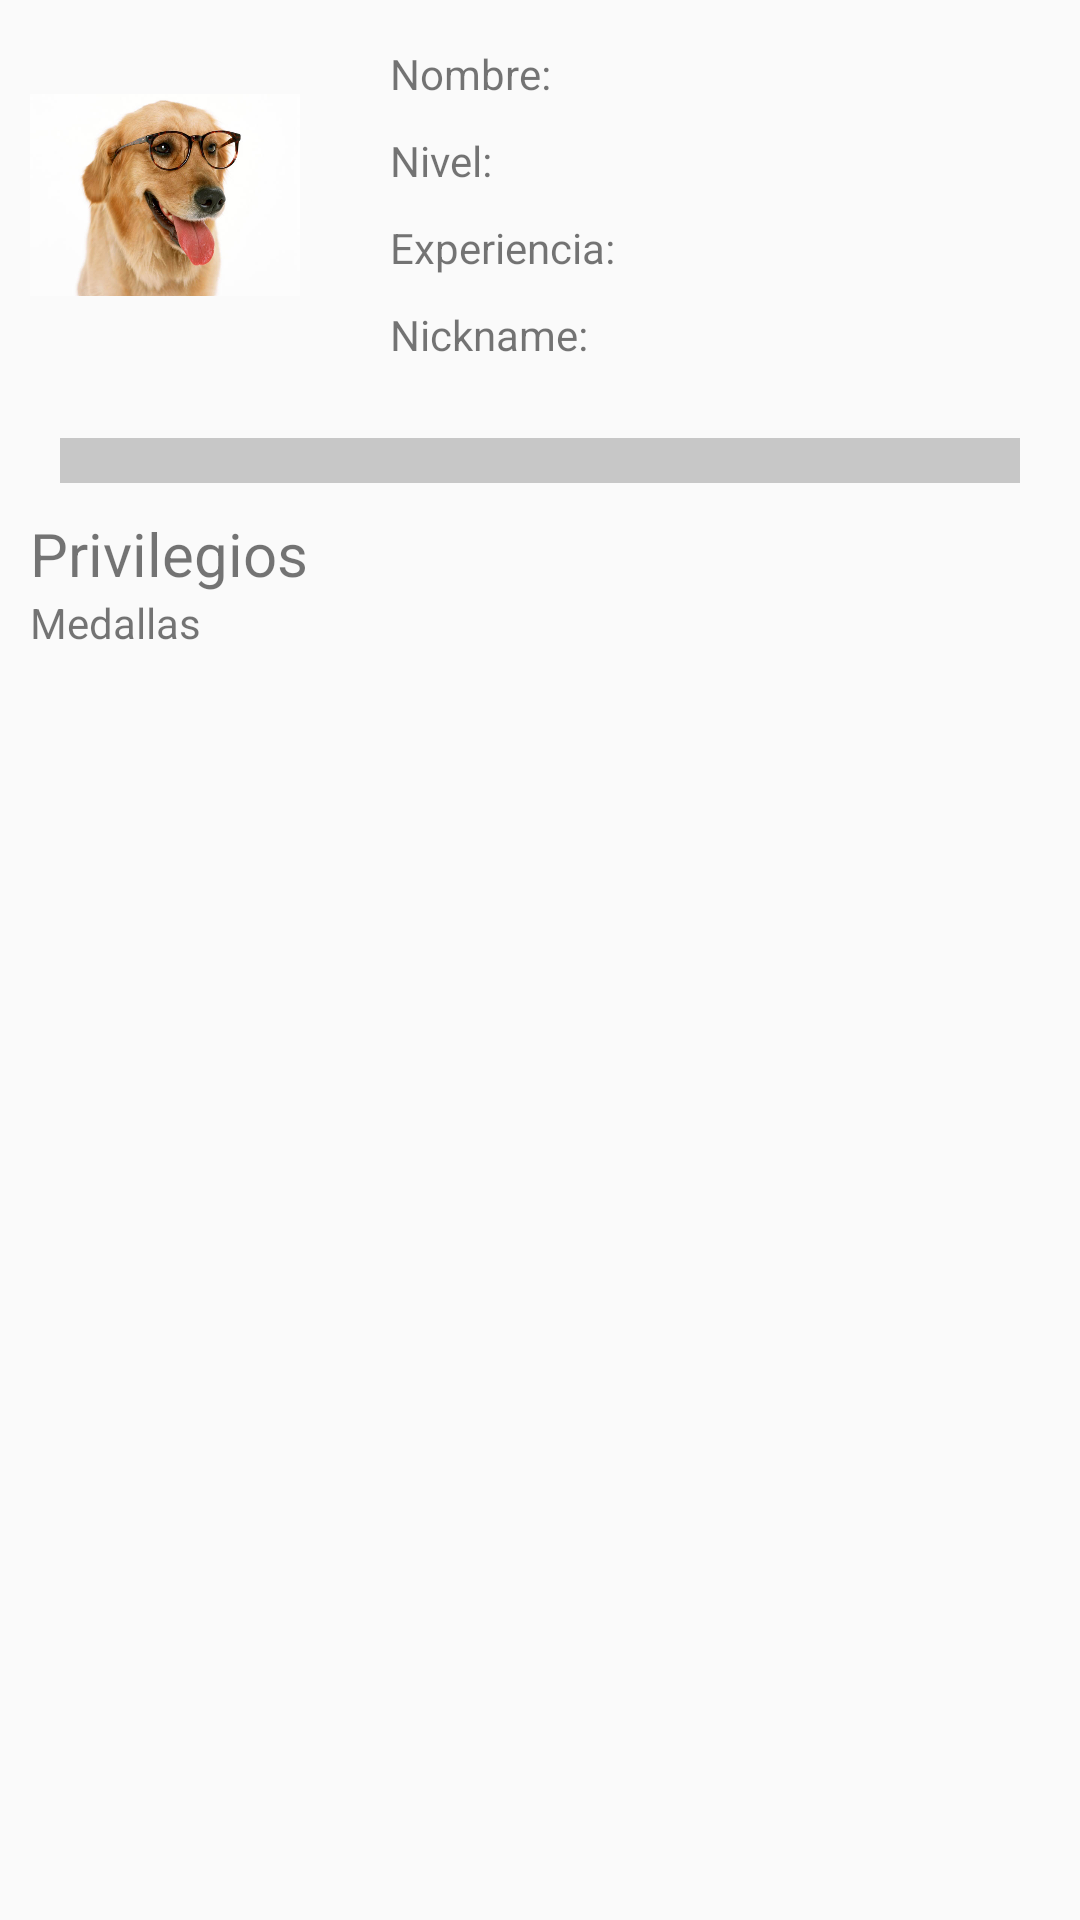

Icon bounding boxes for this 1080w x 1920h phone screenshot, format region(x1, y1, x2, y2):
perro: region(77, 100, 241, 296)
